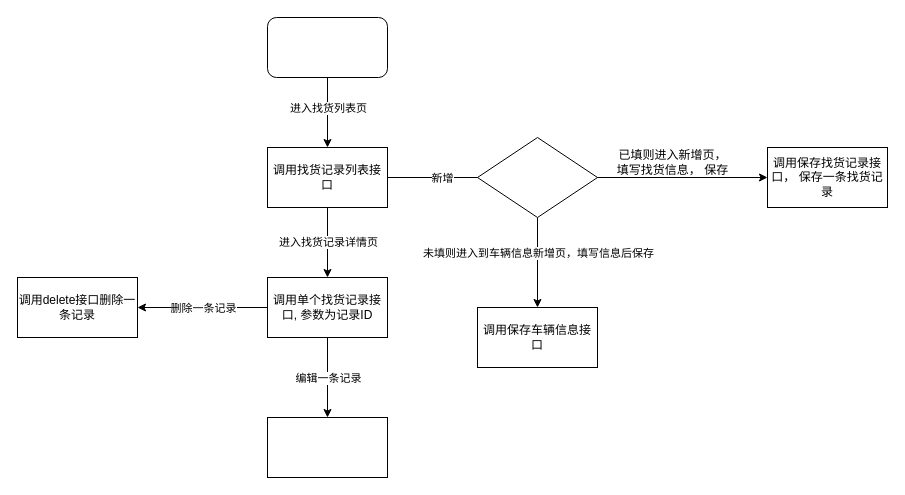
The diagram is 905 pixels wide and 495 high, and some of its shapes have lost their labels. The centre of each missing label's shape, as x and y in pixels:
开始: point (327, 47)
是否已填车辆信息: point (537, 177)
调用update接口更新一条记录: point (327, 447)
